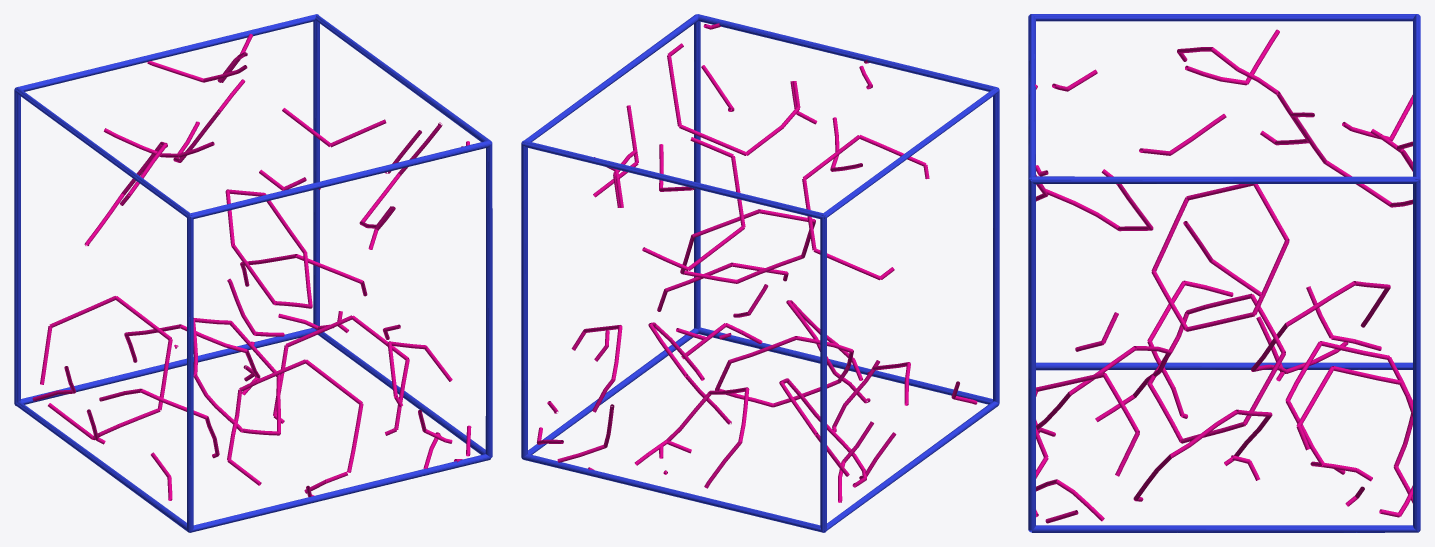
File: dislocation100.glb
3 renders of one model, left to right at view 1: azimuth 30°, elevation 25°; view 2: azimuth 150°, elevation 25°; view 3: azimuth 270°, elevation 25°, orthographic. The views are drawn at different scales.
Parts seen in each view (by area): view 1: Shape_IndexedLineSet, Shape_IndexedLineSet.001; view 2: Shape_IndexedLineSet, Shape_IndexedLineSet.001; view 3: Shape_IndexedLineSet.001, Shape_IndexedLineSet.
Boxes of the visible parts, left/top/right/bottom form: Shape_IndexedLineSet: left=14, top=14, right=492, bottom=532; Shape_IndexedLineSet.001: left=32, top=34, right=471, bottom=500; Shape_IndexedLineSet: left=521, top=14, right=999, bottom=532; Shape_IndexedLineSet.001: left=536, top=23, right=977, bottom=502; Shape_IndexedLineSet.001: left=1035, top=29, right=1413, bottom=523; Shape_IndexedLineSet: left=1028, top=14, right=1420, bottom=532.
Size of the model in its own units: 1.02 by 1.02 by 1.02.
